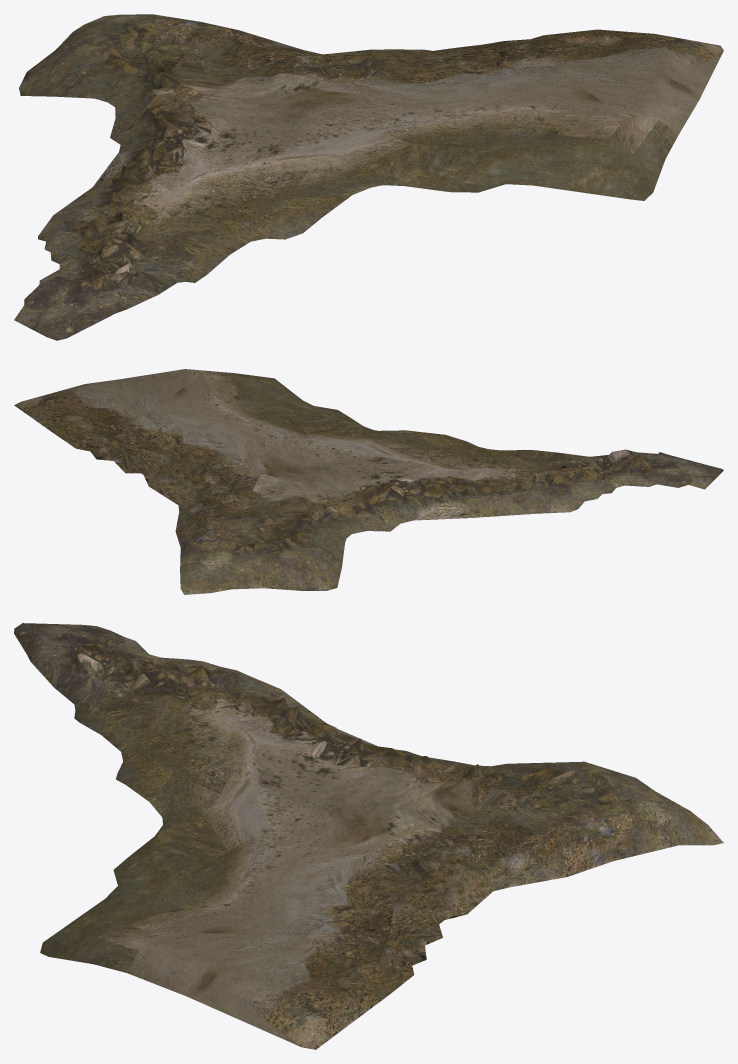
Rendered from CoastalRock_01.fbx.
The picture shows the model from 3 angles, top to bottom: view 1: azimuth 30°, elevation 25°; view 2: azimuth 150°, elevation 25°; view 3: azimuth 270°, elevation 25°; orthographic projection. The views are drawn at different scales.
Visible parts, largest first — view 1: coast_rocks_01_LOD0; view 2: coast_rocks_01_LOD0; view 3: coast_rocks_01_LOD0.
Part boxes in pixels (box(x1,y1,x2,y2)): coast_rocks_01_LOD0: box(14, 14, 723, 340); coast_rocks_01_LOD0: box(14, 369, 723, 594); coast_rocks_01_LOD0: box(14, 623, 723, 1049).
Size of what is drawn, in the model's own units: 5951 by 327 by 4259.
